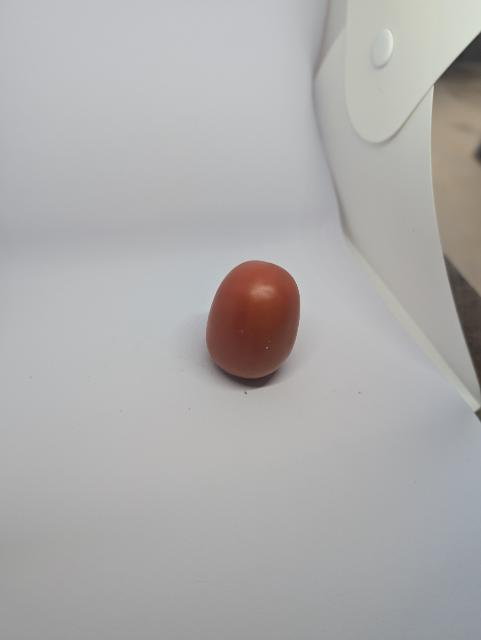red: (198, 249, 308, 391)
